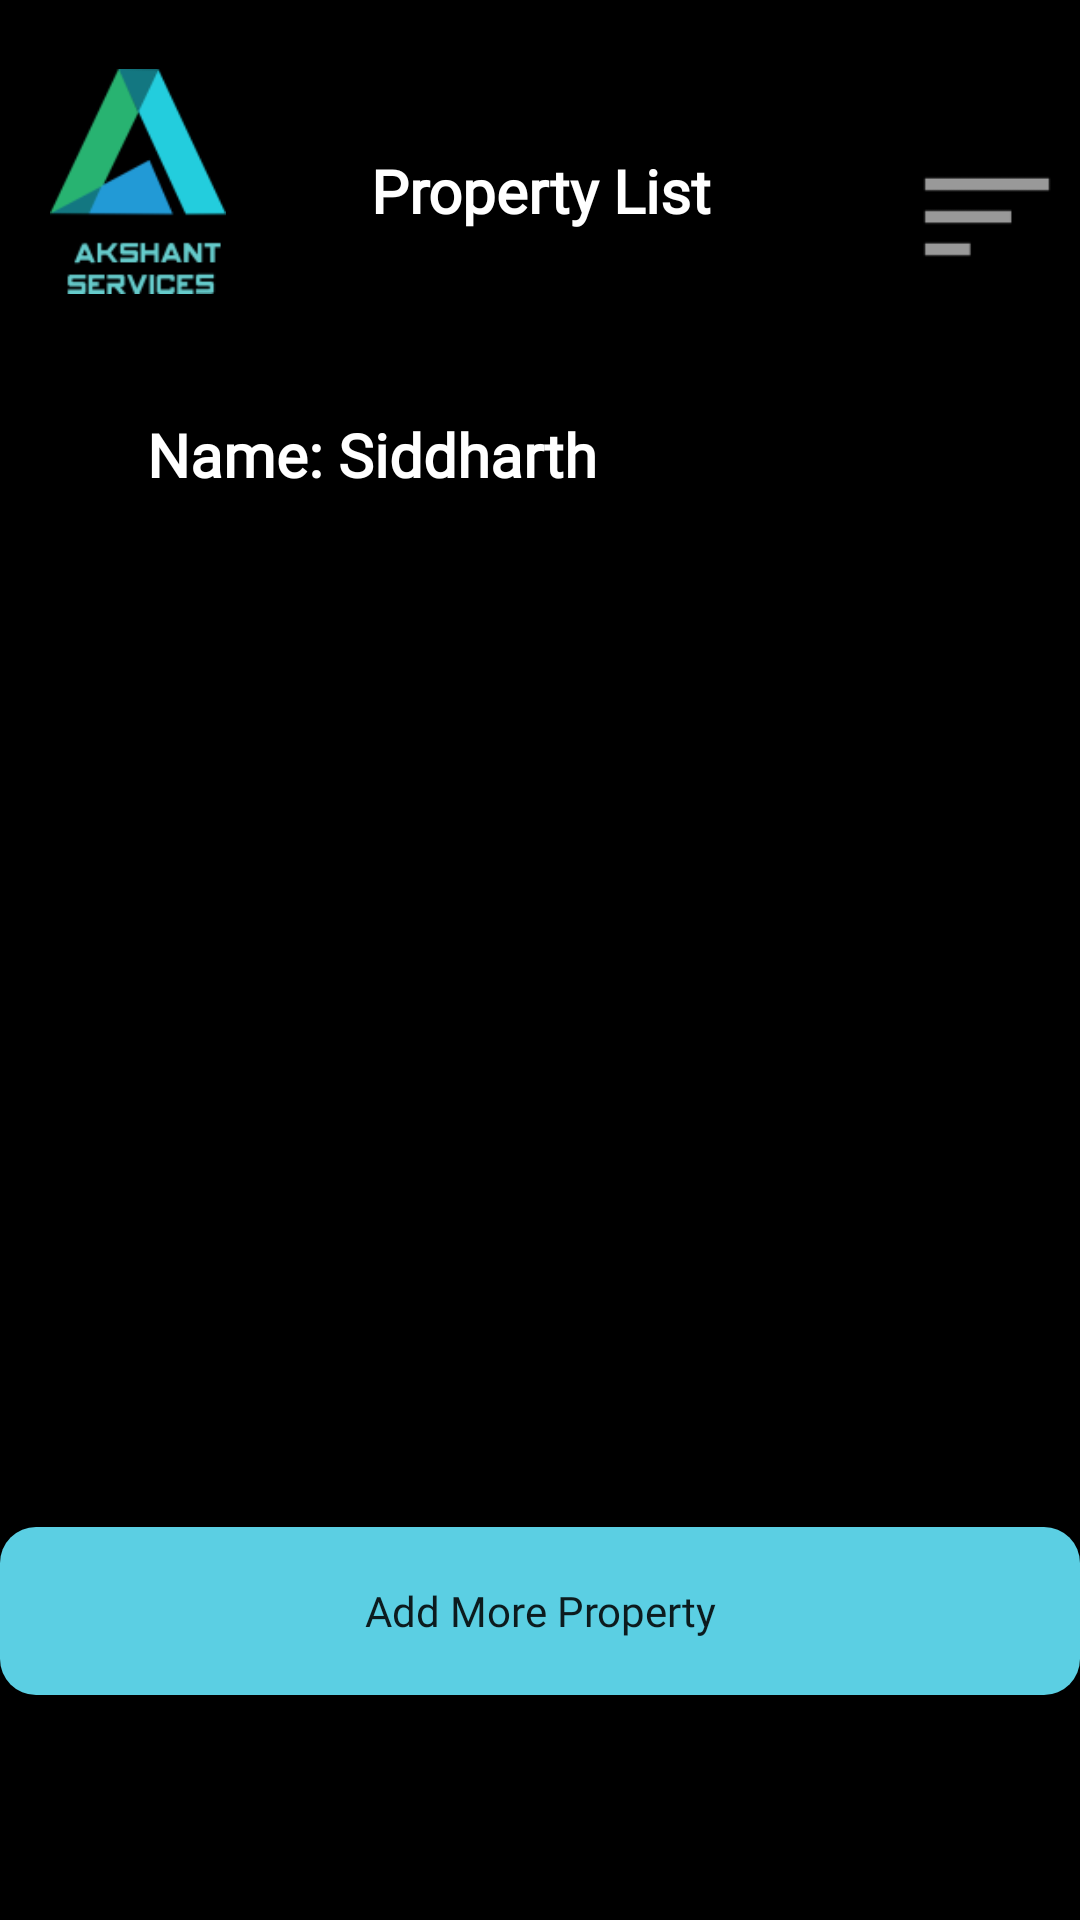

Screen size 1080w x 1920h. Icon name, then its center in pixels as point (x, y):
sort by size: point (987, 216)
